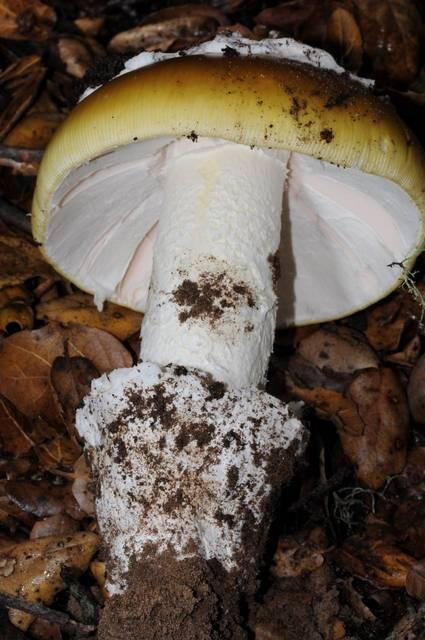Edible Mushroom: (28, 34, 424, 638)
